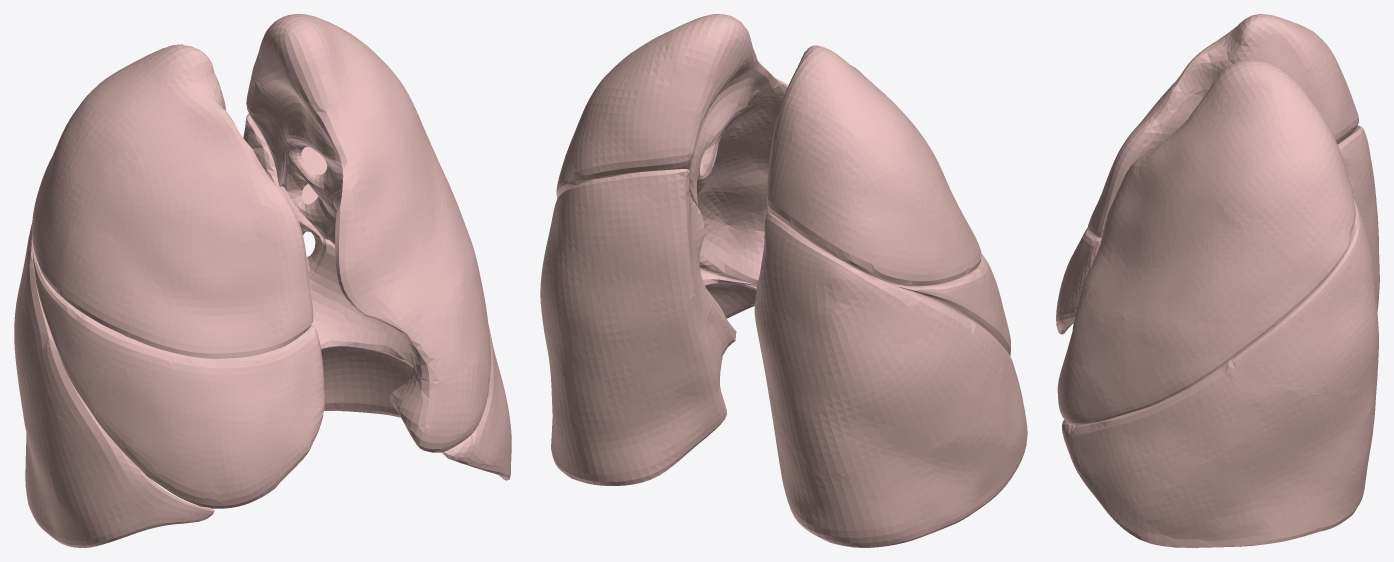
The model's file is pulmoes_lobos.glb.
3 views of the same model, side by side, from view 1: azimuth 30°, elevation 25°; view 2: azimuth 150°, elevation 25°; view 3: azimuth 270°, elevation 25° (orthographic). The views are drawn at different scales.
Visible parts, largest first — view 1: direito_superior, esquerdo_superior, direito_middle, direito_inferior, esquerdo_inferior; view 2: direito_inferior, esquerdo_inferior, esquerdo_superior, direito_superior, direito_middle; view 3: esquerdo_superior, esquerdo_inferior, direito_superior, direito_inferior, direito_middle.
Boxes of the visible parts, x1=… form: direito_superior: x1=32, y1=44, x2=313, y2=358; esquerdo_superior: x1=246, y1=14, x2=490, y2=452; direito_middle: x1=32, y1=252, x2=324, y2=508; direito_inferior: x1=14, y1=223, x2=214, y2=547; esquerdo_inferior: x1=243, y1=114, x2=511, y2=480; direito_inferior: x1=754, y1=214, x2=1027, y2=547; esquerdo_inferior: x1=540, y1=169, x2=756, y2=485; esquerdo_superior: x1=556, y1=14, x2=788, y2=287; direito_superior: x1=766, y1=45, x2=981, y2=286; direito_middle: x1=889, y1=254, x2=1010, y2=355; esquerdo_superior: x1=1057, y1=59, x2=1355, y2=424; esquerdo_inferior: x1=1062, y1=199, x2=1378, y2=547; direito_superior: x1=1088, y1=14, x2=1358, y2=237; direito_inferior: x1=1073, y1=125, x2=1379, y2=323; direito_middle: x1=1056, y1=227, x2=1101, y2=334.
Size of the model in its own units: 0.261 by 0.264 by 0.1857.
